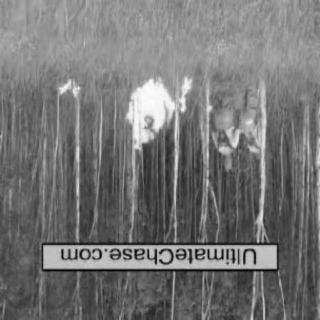Fire: (124, 73, 194, 156)
